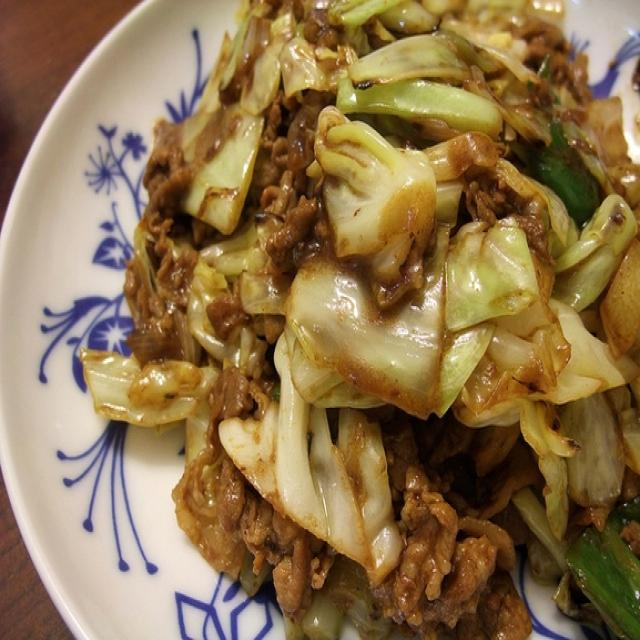猪肉菜式: (3, 2, 636, 631)
